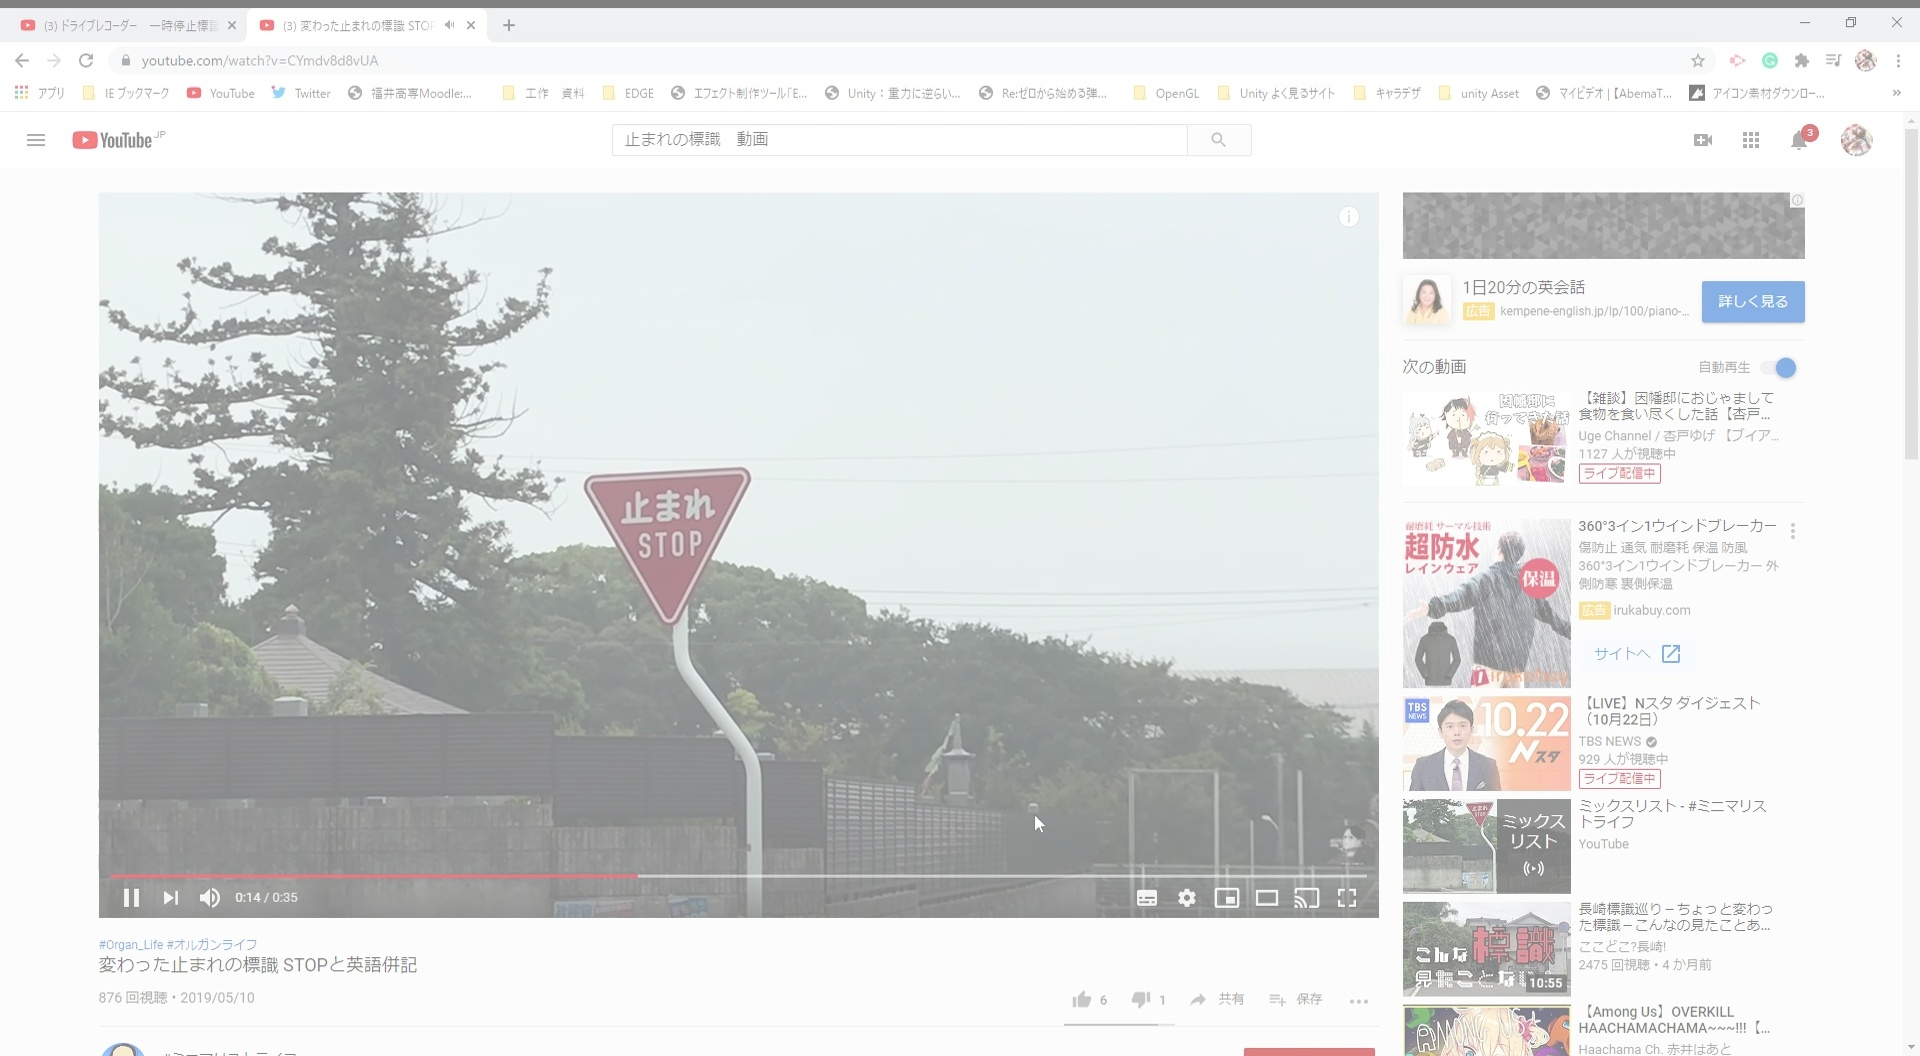Regulatory_sign_triangle: (567, 450, 783, 639)
